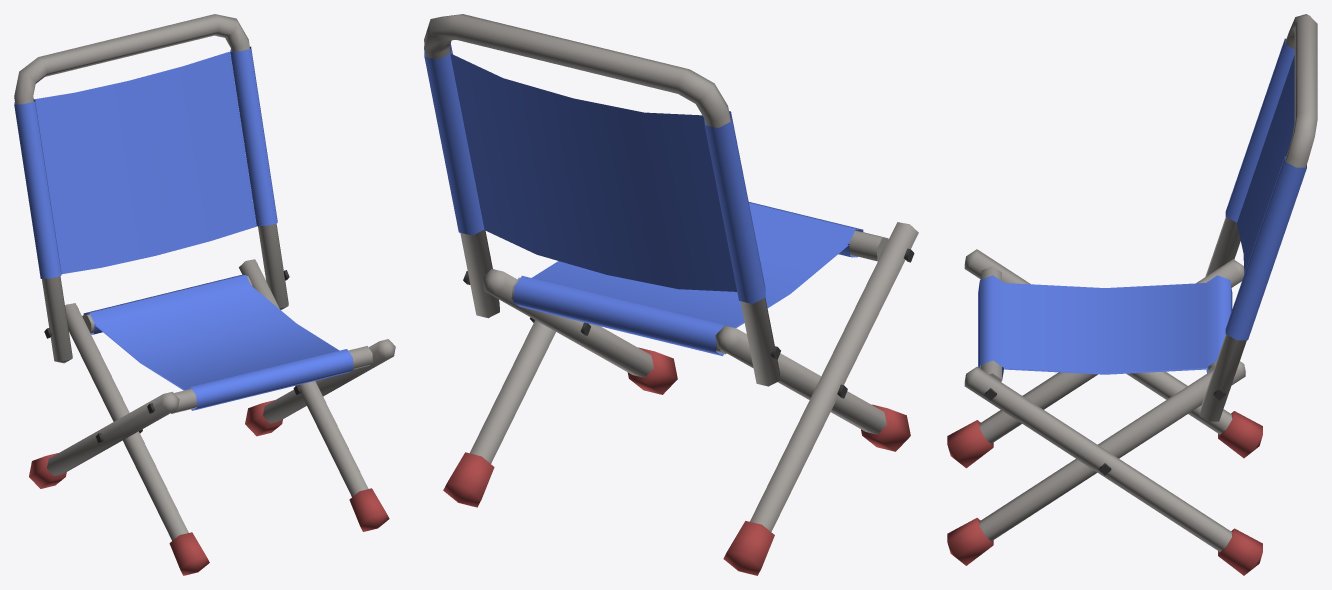
File: Furniture_Chair_00 dummy.FBX
3 renders of one model, left to right at view 1: azimuth 30°, elevation 25°; view 2: azimuth 150°, elevation 25°; view 3: azimuth 270°, elevation 25°, orthographic. The views are drawn at different scales.
Visible parts, largest first — view 1: chair; view 2: chair; view 3: chair.
Boxes of the visible parts, box(x1,y1,x2,y2) form: chair: box(14, 14, 395, 575); chair: box(424, 14, 918, 575); chair: box(947, 14, 1317, 575).
Size of the model in its own units: 46.61 by 73.22 by 54.68.
